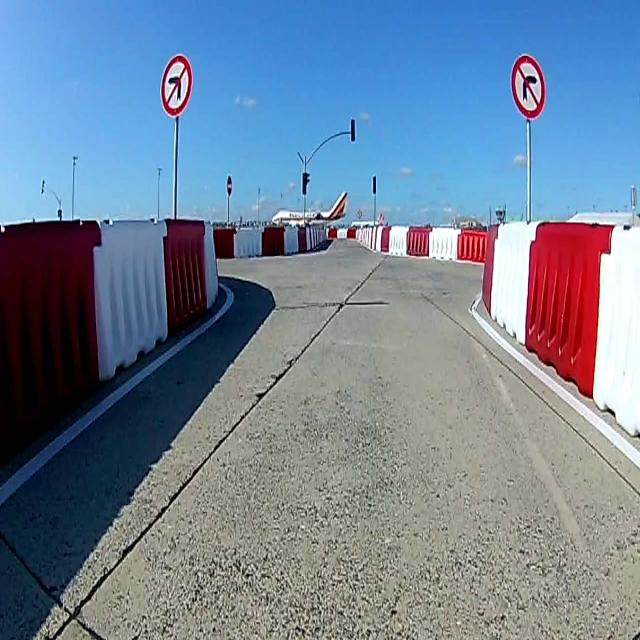sagadonulmez: (511, 54, 547, 123)
soladonulmez: (160, 56, 192, 115)
